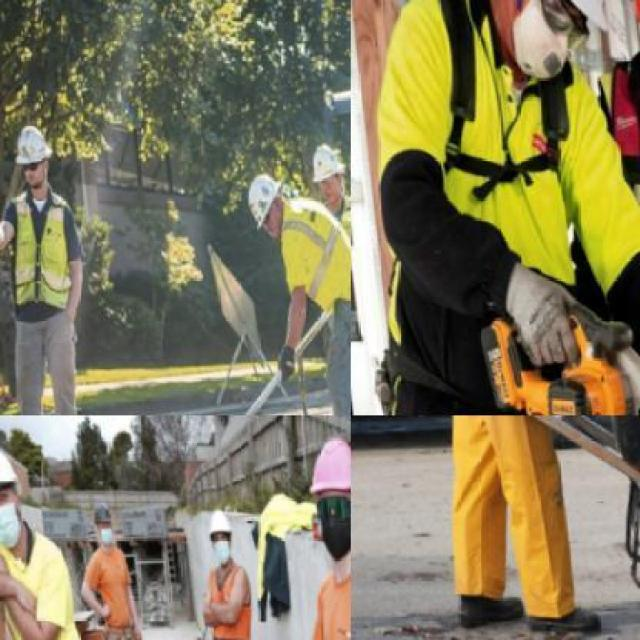Vest: (591, 44, 638, 413), (272, 192, 350, 310), (4, 186, 74, 311), (317, 190, 349, 268)
